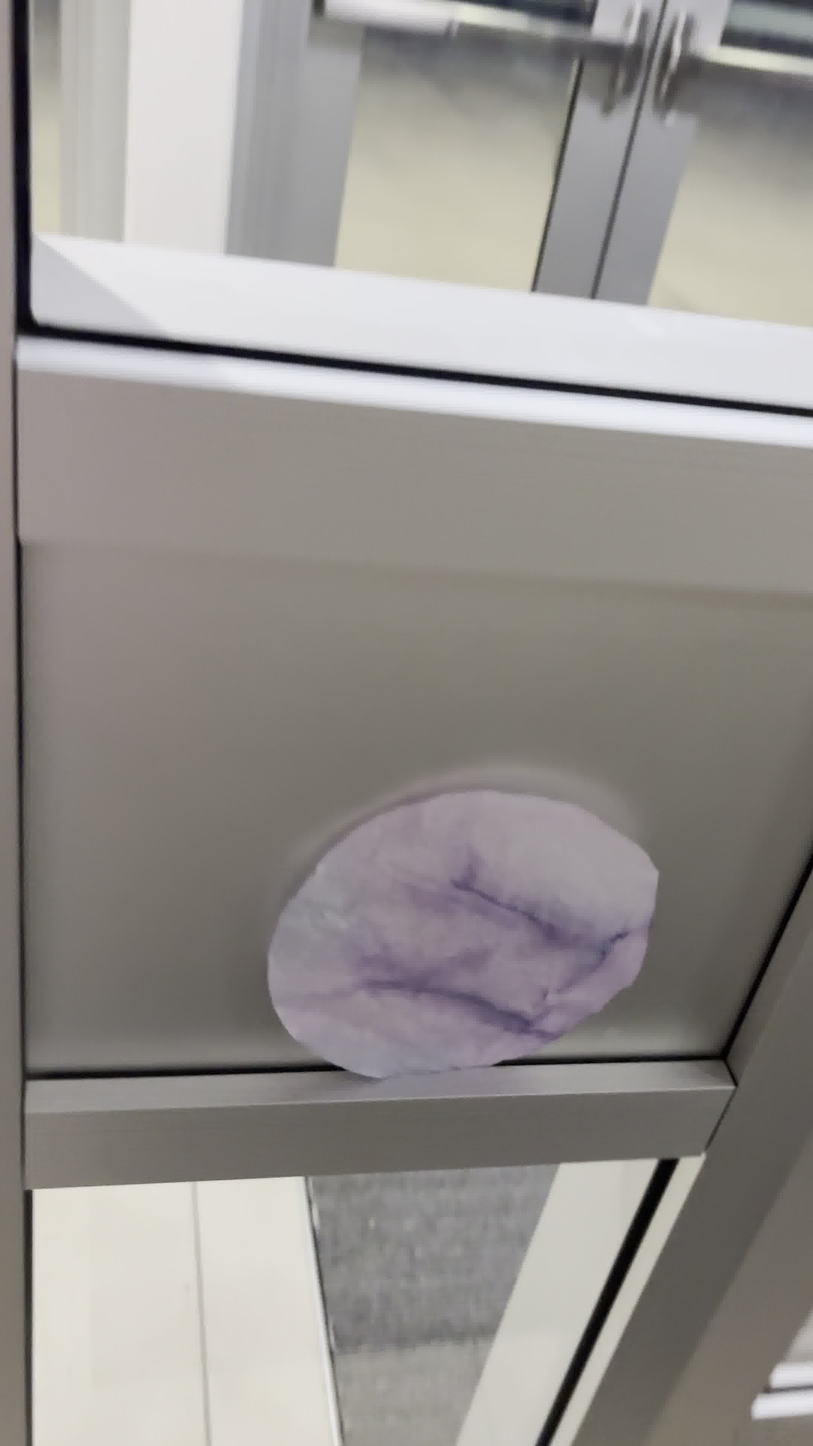Target: (251, 779, 672, 1087)
